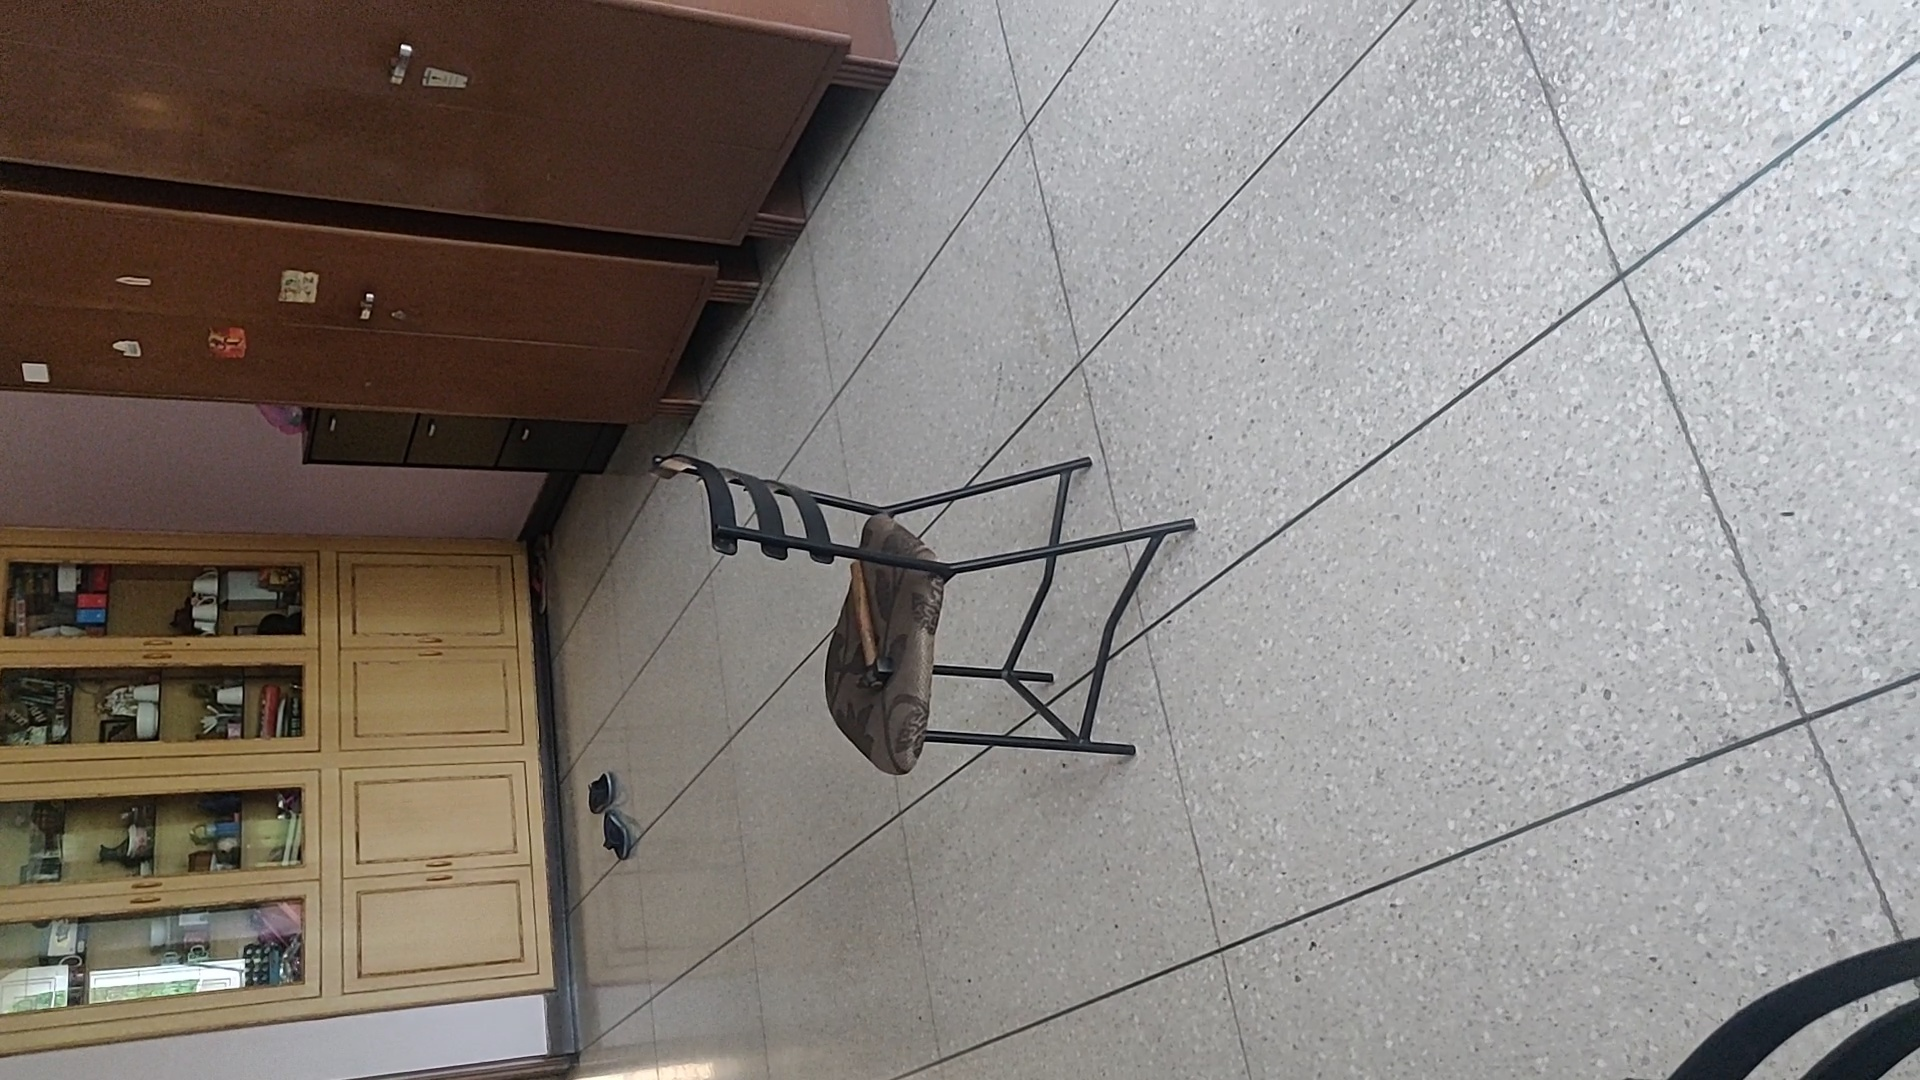hammer: (841, 560, 895, 694)
